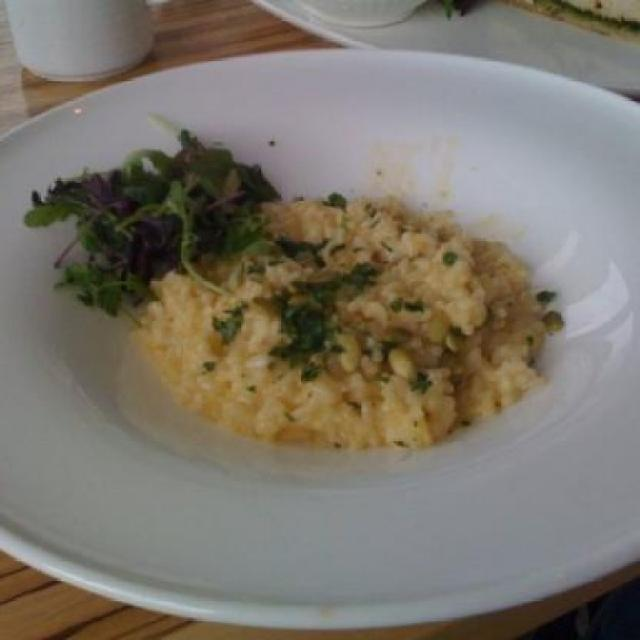Risotto: (132, 201, 556, 450)
